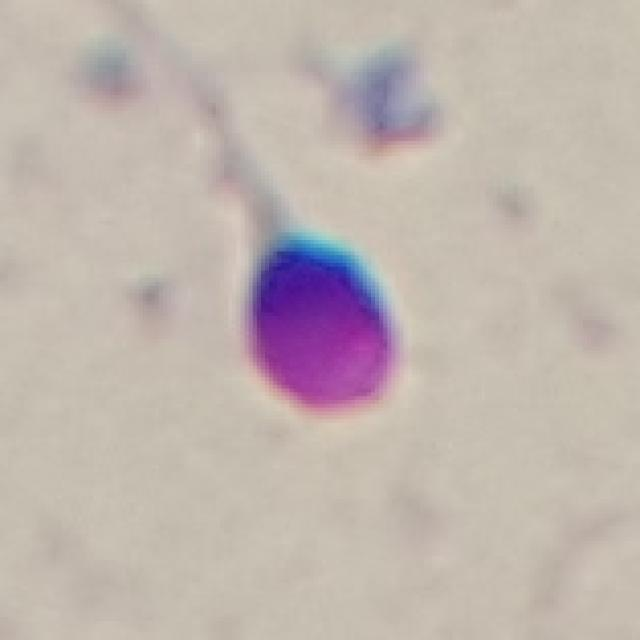normal sperm: (189, 124, 418, 420)
